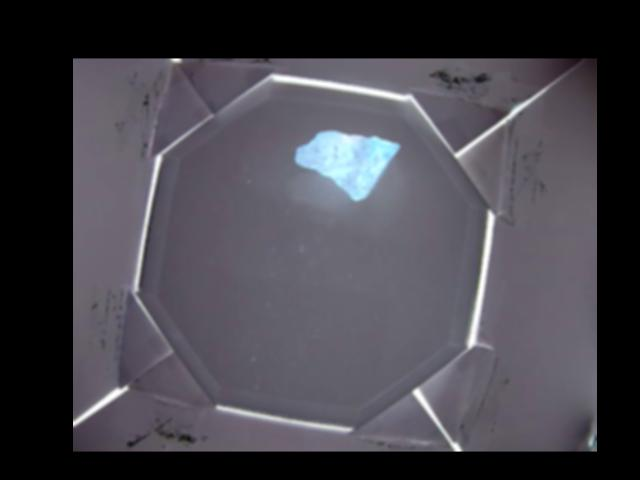Brisk: (295, 131, 401, 198)
